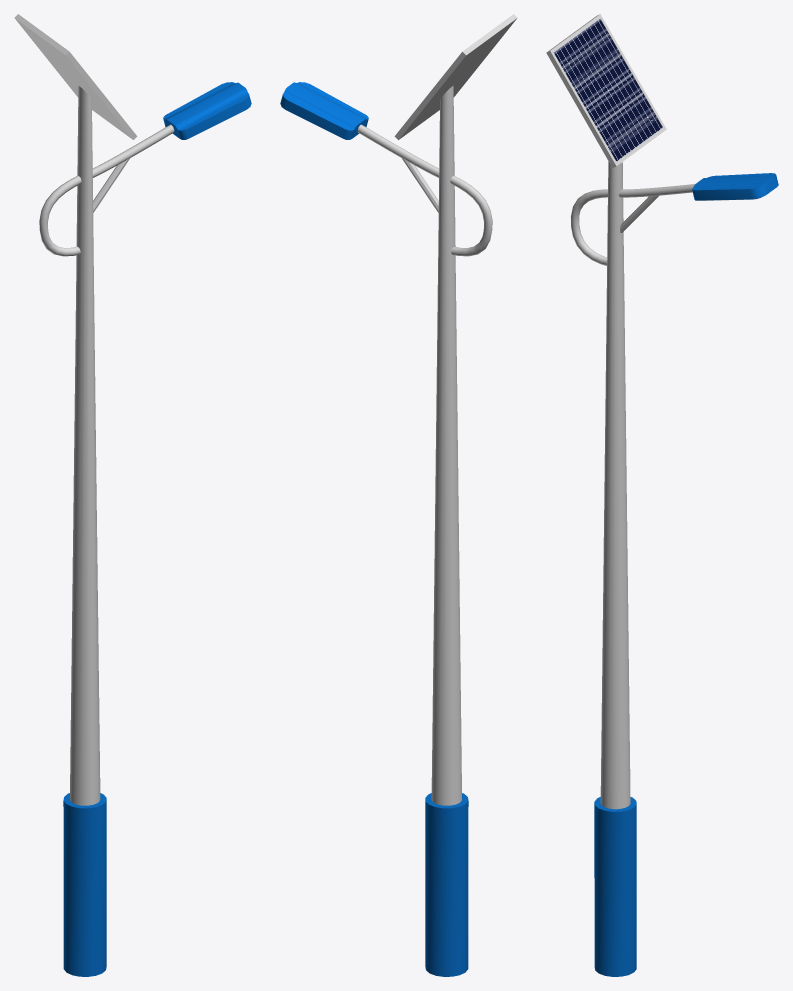
Rendered from streetLamp.glb.
The picture shows the model from 3 angles, left to right: view 1: azimuth 30°, elevation 25°; view 2: azimuth 150°, elevation 25°; view 3: azimuth 330°, elevation 25°; orthographic projection. The views are drawn at different scales.
Visible parts, largest first — view 1: 圆柱体-材质 (×2), 立方体.1-材质, 立方体-材质, 扫描; view 2: 圆柱体-材质 (×2), 立方体.1-材质, 立方体-材质, 扫描; view 3: 圆柱体-材质 (×2), 立方体-企业微信截图_17846915482427, 立方体.1-材质, 立方体-材质, 扫描.
Part boxes in pixels (bbox=[...]): 圆柱体-材质 (×2): bbox=[63, 86, 106, 976]; 立方体.1-材质: bbox=[163, 82, 251, 139]; 立方体-材质: bbox=[14, 14, 137, 139]; 扫描: bbox=[39, 124, 174, 256]; 圆柱体-材质 (×2): bbox=[425, 86, 468, 976]; 立方体.1-材质: bbox=[280, 82, 368, 139]; 立方体-材质: bbox=[394, 14, 517, 139]; 扫描: bbox=[357, 124, 492, 256]; 圆柱体-材质 (×2): bbox=[594, 161, 636, 976]; 立方体-企业微信截图_17846915482427: bbox=[554, 19, 662, 161]; 立方体.1-材质: bbox=[692, 173, 778, 200]; 立方体-材质: bbox=[546, 14, 666, 167]; 扫描: bbox=[570, 184, 695, 265].
Size of the model in its own units: 1.33 by 5.86 by 0.5776.
Materials: 4 (1 with a texture image).
